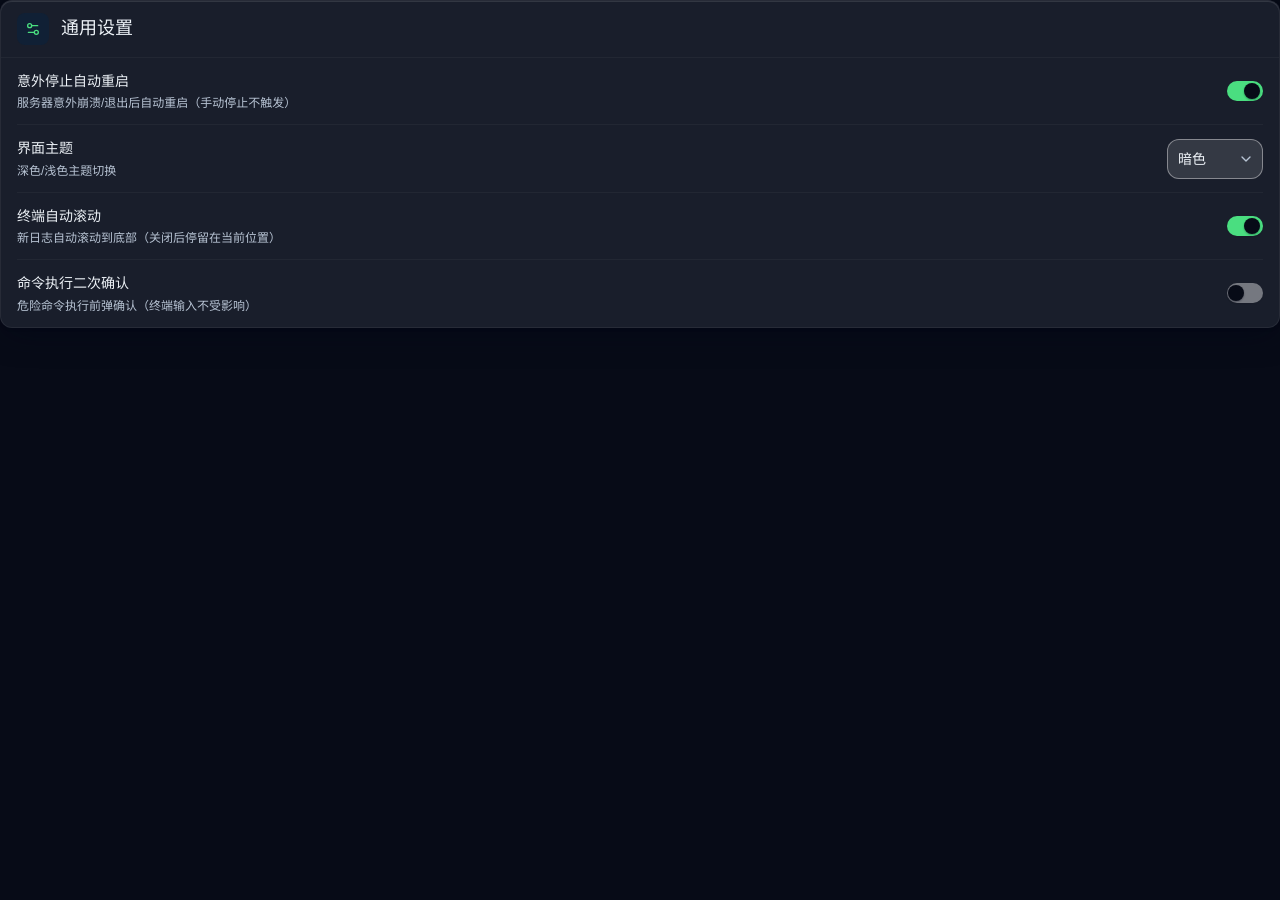
Test: GeneralPanel autoRestart 切换 › 切换成功：乐观翻转 → PUT {autoRestart:false} → 成功 toast → 值保持
Step 1. Click the switch named "意外停止自动重启" → (1245, 91), box x1=1227 y1=81 x2=1263 y2=101
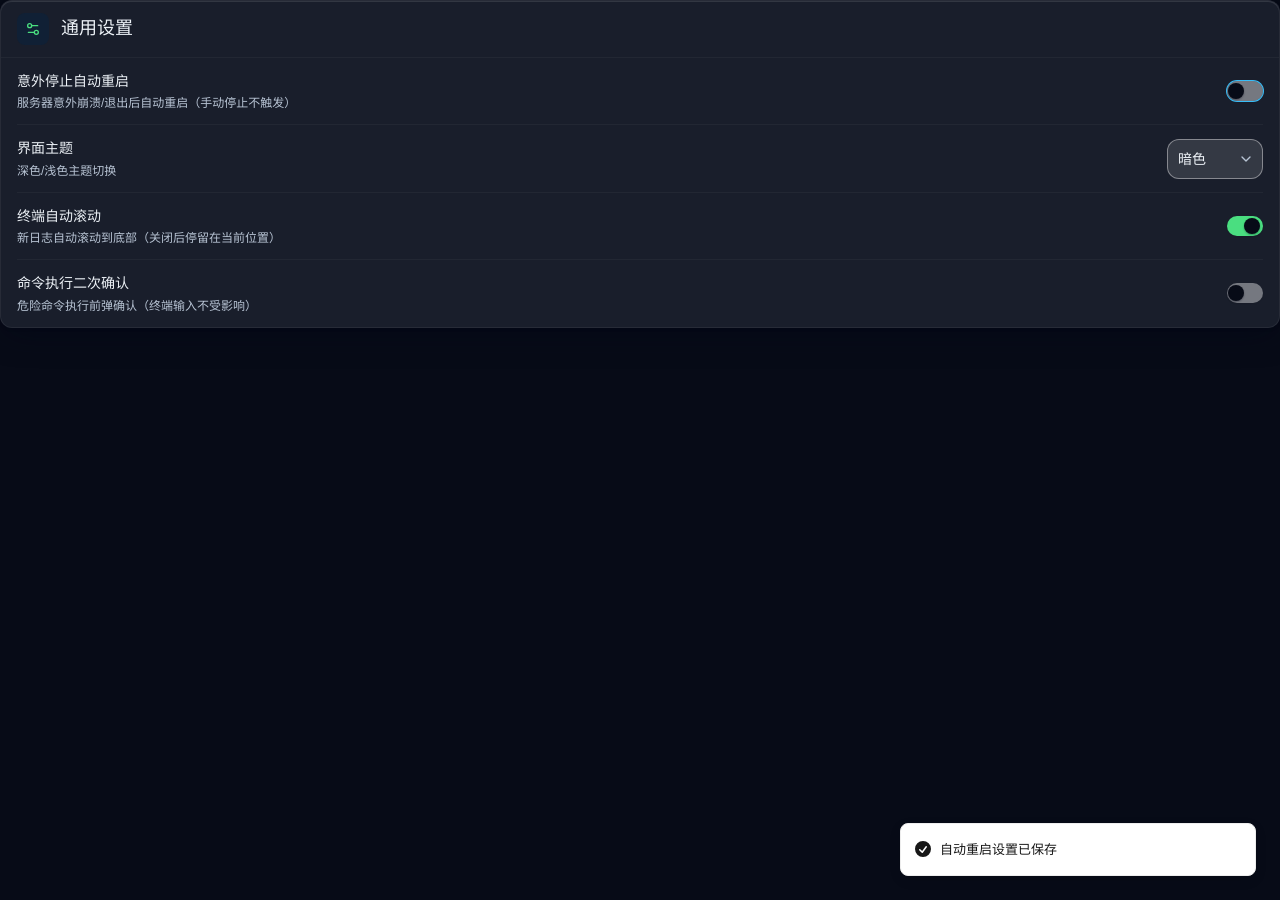
Check: the text "自动重启设置已保存" is shown, box x1=940 y1=840 x2=1057 y2=859
